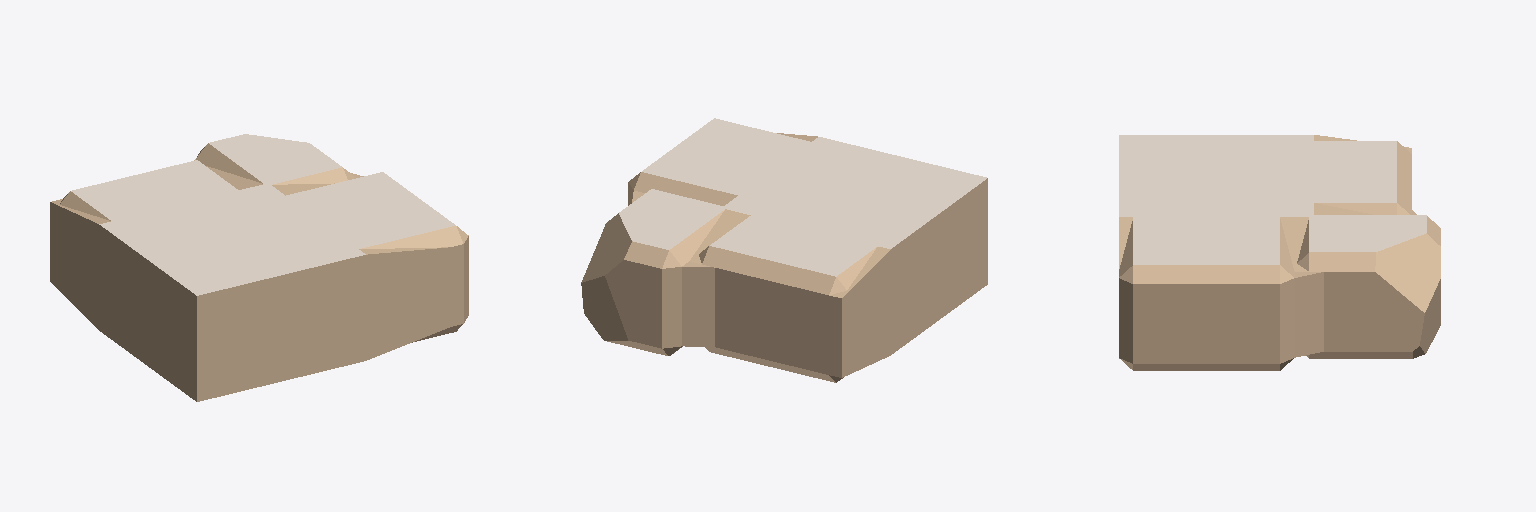
The model's file is Floor_Ruined_Corner_Outer_2.obj.
3 renders of one model, left to right at view 1: azimuth 30°, elevation 25°; view 2: azimuth 150°, elevation 25°; view 3: azimuth 270°, elevation 25°, orthographic.
Parts seen in each view (by area): view 1: object1; view 2: object1; view 3: object1.
Part boxes in pixels (x1,y1,x2,y2): object1: (50,134,468,401); object1: (581,118,987,382); object1: (1119,135,1440,370).
Bounding box in the file's own units: 0.55 × 0.2 × 0.55.